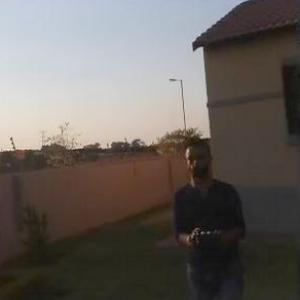follow: (168, 134, 252, 299)
